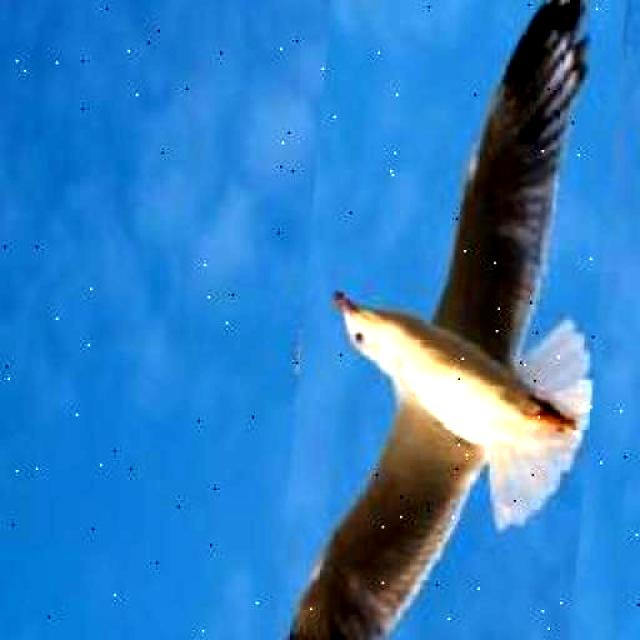airplane: (260, 0, 628, 640)
